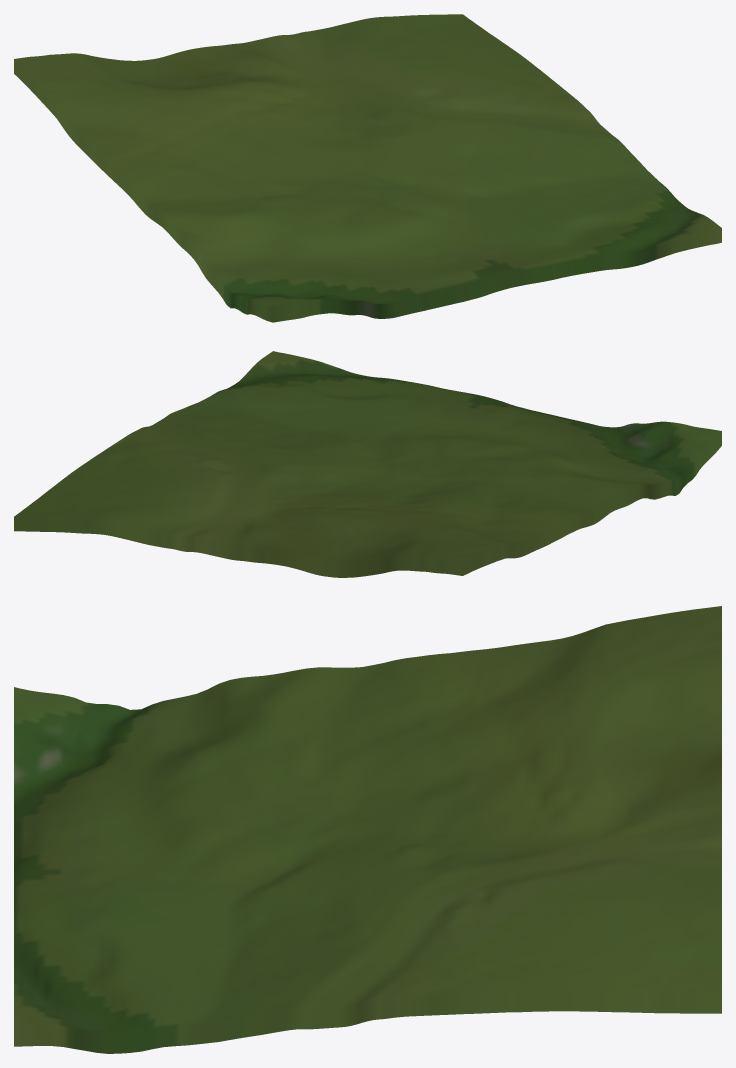
File: terrain_8_-12.glb
3 views of the same model, one above another, from view 1: azimuth 30°, elevation 25°; view 2: azimuth 150°, elevation 25°; view 3: azimuth 270°, elevation 25° (orthographic). The views are drawn at different scales.
Parts seen in each view (by area): view 1: terrain_8_-12; view 2: terrain_8_-12; view 3: terrain_8_-12.
Boxes of the visible parts, x1,y1,x2,y2 form: terrain_8_-12: [14, 14, 721, 322]; terrain_8_-12: [14, 351, 721, 577]; terrain_8_-12: [14, 606, 721, 1053].
Size of the model in its own units: 256 by 59.34 by 256.
